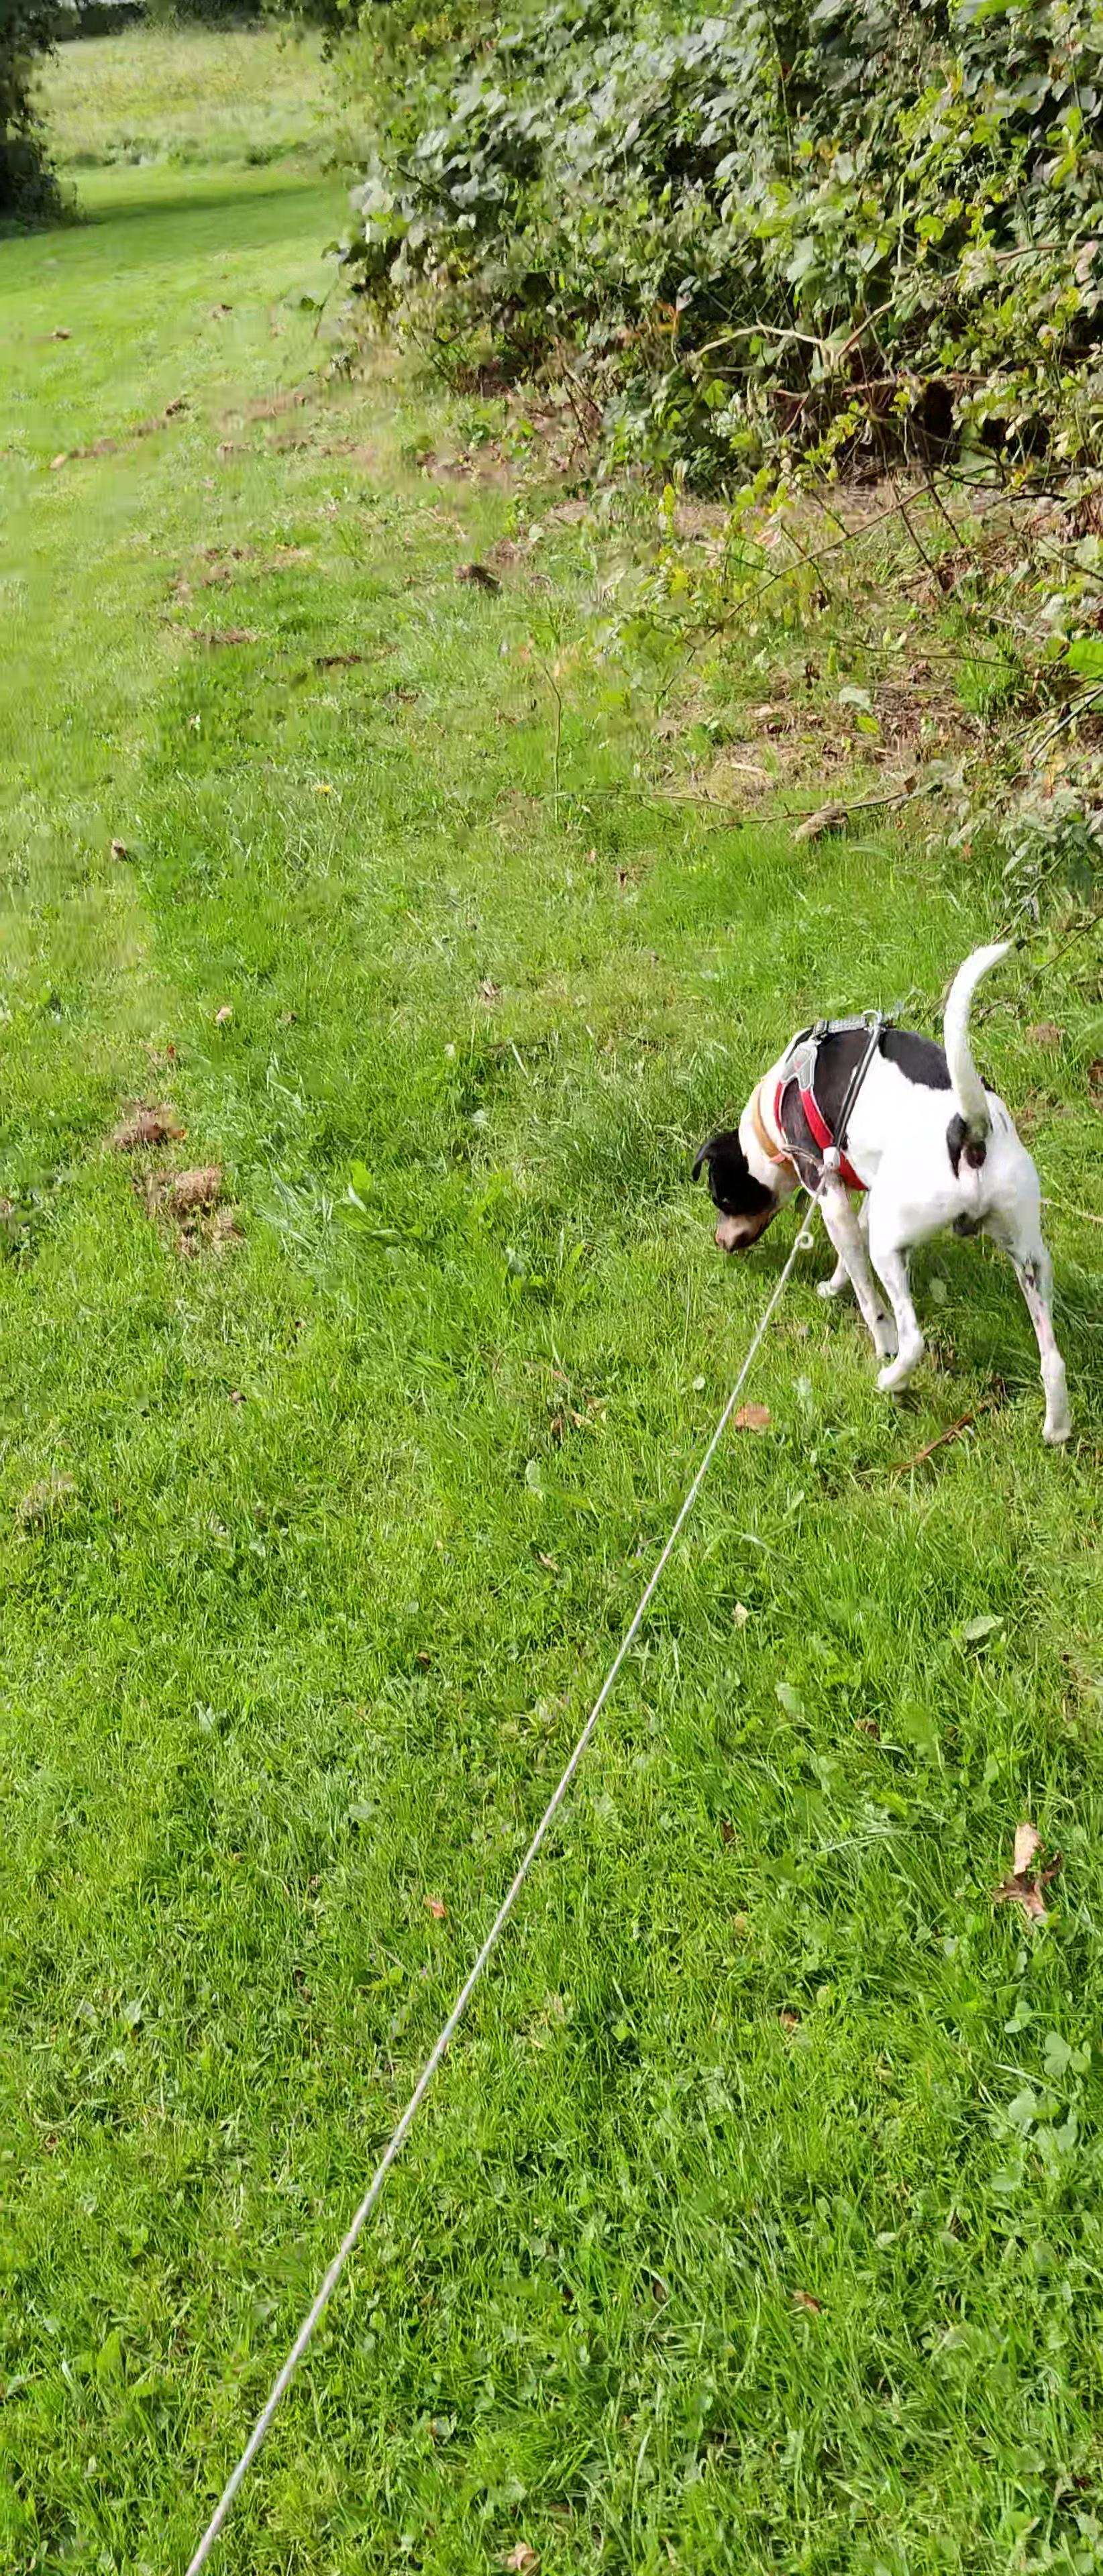Dog: (684, 935, 1078, 1447)
